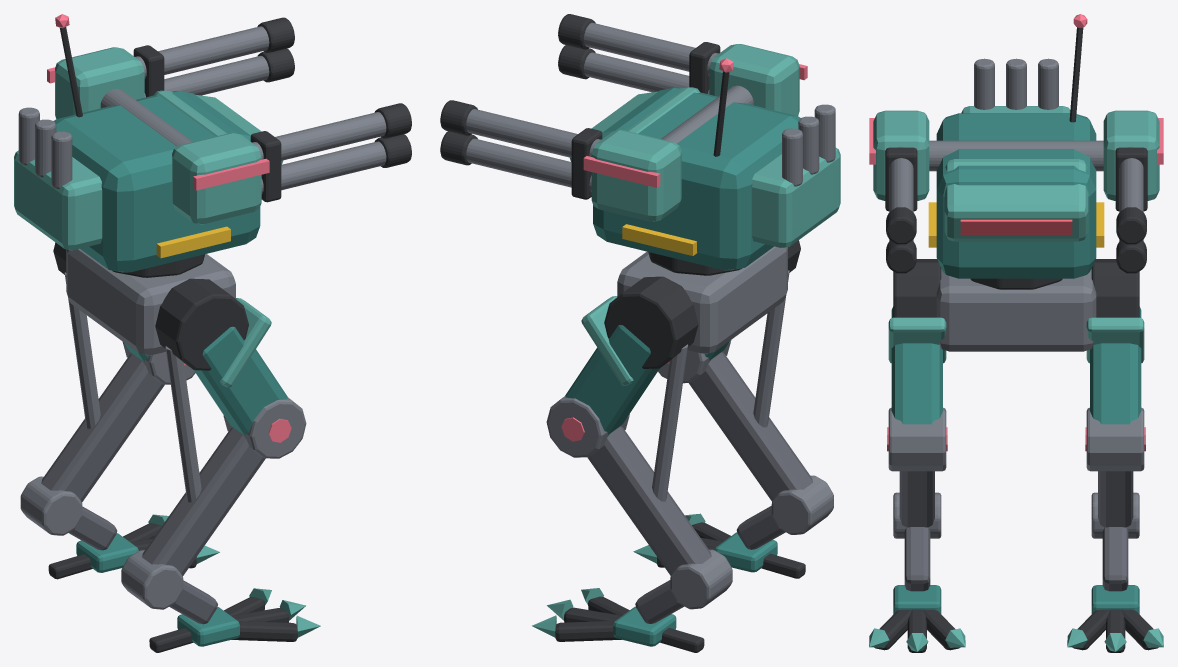
Rendered from torreta_mech.obj.
3 views of the same model, side by side, from view 1: azimuth 30°, elevation 25°; view 2: azimuth 150°, elevation 25°; view 3: azimuth 270°, elevation 25° (orthographic). The views are drawn at different scales.
Parts seen in each view (by area): view 1: Base, Pivot, Barrel; view 2: Base, Pivot, Barrel; view 3: Base, Pivot, Barrel.
Part boxes in pixels (left/top/right/bottom): Base: left=20, top=242, right=320, bottom=652; Pivot: left=14, top=14, right=283, bottom=277; Barrel: left=47, top=17, right=411, bottom=224; Base: left=532, top=240, right=833, bottom=652; Pivot: left=570, top=58, right=840, bottom=275; Barrel: left=440, top=14, right=807, bottom=221; Base: left=869, top=259, right=1163, bottom=652; Pivot: left=928, top=14, right=1104, bottom=289; Barrel: left=869, top=110, right=1163, bottom=273.
Size of the model in its own units: 2.21 by 3.96 by 1.84.
1 material, 1 textured.
